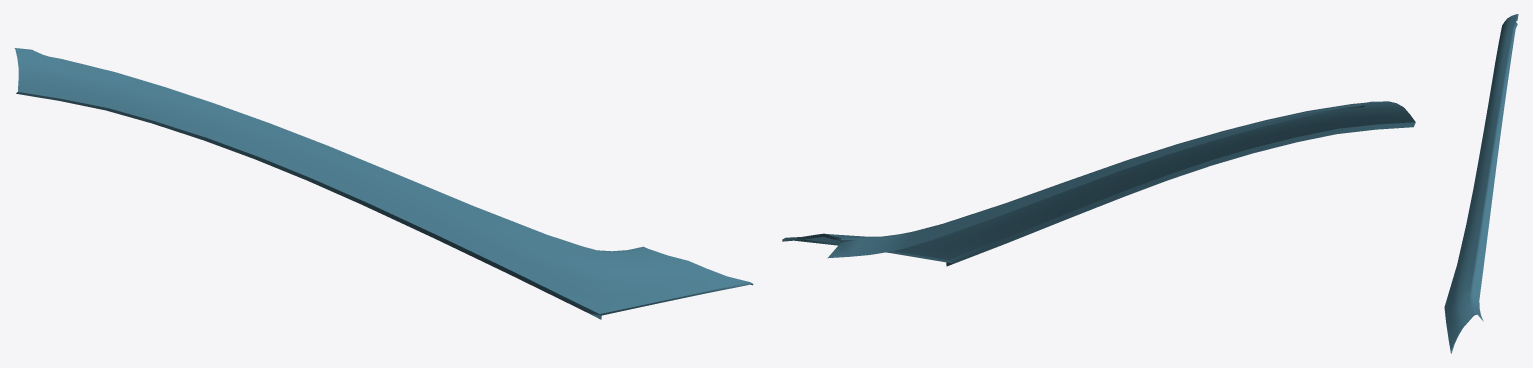
3 views of the same model, side by side, from view 1: azimuth 30°, elevation 25°; view 2: azimuth 150°, elevation 25°; view 3: azimuth 270°, elevation 25° (orthographic). The views are drawn at different scales.
Parts seen in each view (by area): view 1: Y175_18_181C_R_1_DaS_Y175_18_181C_R, Y175_18_181C_R_1_DaS_Y175_18_181C_R_E; view 2: Y175_18_181C_R_1_DaS_Y175_18_181C_R, Y175_18_181C_R_1_DaS_Y175_18_181C_R_E; view 3: Y175_18_181C_R_1_DaS_Y175_18_181C_R, Y175_18_181C_R_1_DaS_Y175_18_181C_R_E.
Part boxes in pixels (x1,y1,x2,y2): Y175_18_181C_R_1_DaS_Y175_18_181C_R: (14, 48, 749, 313); Y175_18_181C_R_1_DaS_Y175_18_181C_R_E: (16, 92, 753, 319); Y175_18_181C_R_1_DaS_Y175_18_181C_R: (804, 101, 1415, 259); Y175_18_181C_R_1_DaS_Y175_18_181C_R_E: (782, 105, 1415, 266); Y175_18_181C_R_1_DaS_Y175_18_181C_R: (1444, 14, 1518, 350); Y175_18_181C_R_1_DaS_Y175_18_181C_R_E: (1448, 25, 1517, 353).
Size of the model in its own units: 95.92 by 47.15 by 17.97.
